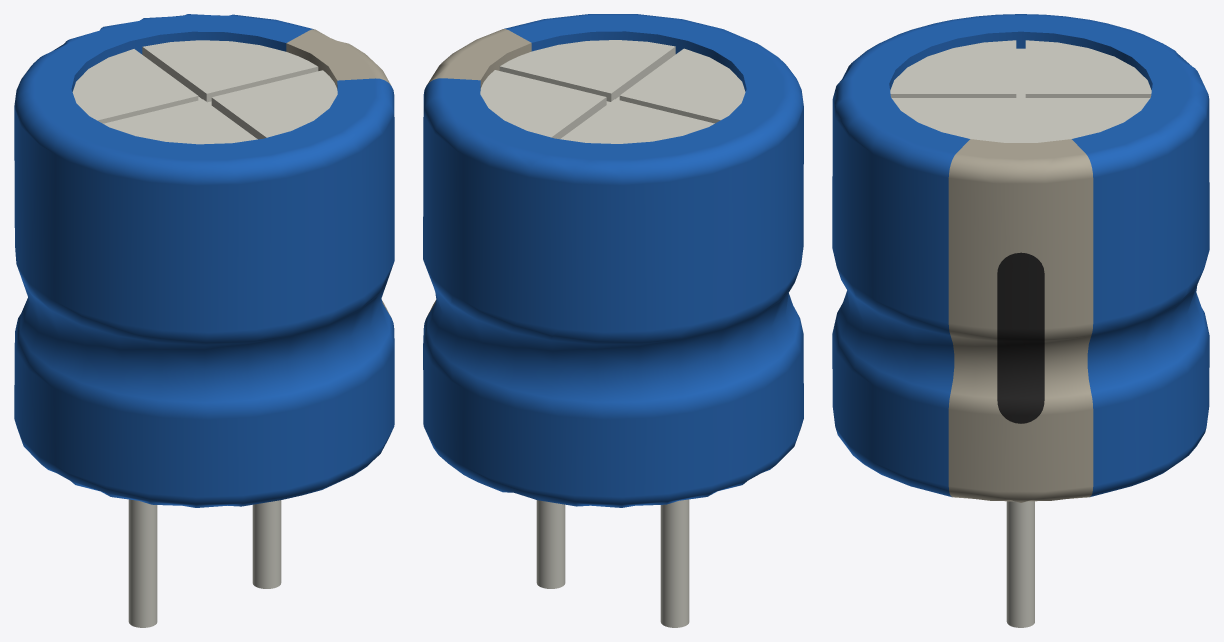
The model's file is Capacitor_THT__CP_Radial_D4.0mm_P1.50mm.glb.
The picture shows the model from 3 angles, left to right: view 1: azimuth 30°, elevation 25°; view 2: azimuth 150°, elevation 25°; view 3: azimuth 270°, elevation 25°; orthographic projection.
Visible parts, largest first — view 1: CP_Radial_D40mm_P150mm; view 2: CP_Radial_D40mm_P150mm; view 3: CP_Radial_D40mm_P150mm.
Part boxes in pixels (x1=…): CP_Radial_D40mm_P150mm: x1=14, y1=14, x2=394, y2=627; CP_Radial_D40mm_P150mm: x1=423, y1=14, x2=803, y2=627; CP_Radial_D40mm_P150mm: x1=832, y1=14, x2=1209, y2=627.
Size of the model in its own units: 0.004 by 0.006 by 0.004.
